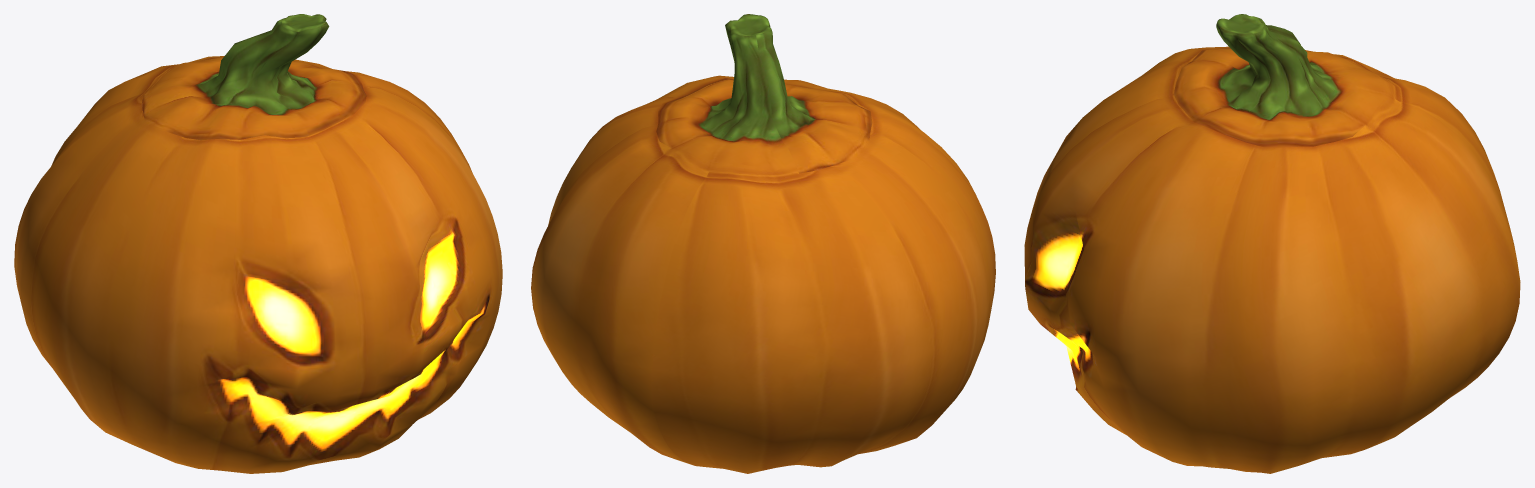
Rendered from pumpkin-single.fbx.
The picture shows the model from 3 angles, left to right: view 1: azimuth 30°, elevation 25°; view 2: azimuth 150°, elevation 25°; view 3: azimuth 270°, elevation 25°; orthographic projection. The views are drawn at different scales.
Parts seen in each view (by area): view 1: pumpkin; view 2: pumpkin; view 3: pumpkin.
Boxes of the visible parts, x1,y1,x2,y2 form: pumpkin: (14,14,502,473); pumpkin: (531,14,995,473); pumpkin: (1024,14,1520,473).
Bounding box in the file's own units: 196 × 181 × 193.
